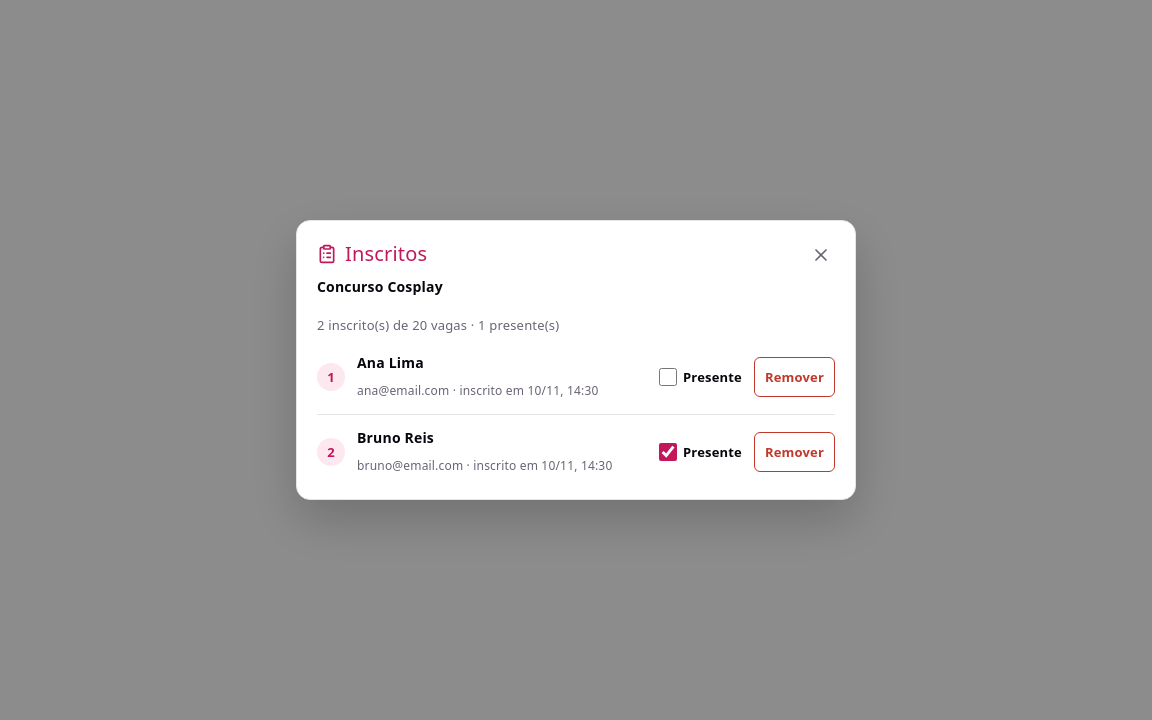
Test: RegistrationsModal › marca a presença de um inscrito
Click the checkbox labelled "Presente" in the row of "Ana Lima".
click(668, 377)  # box left=659, top=368, right=677, bottom=386
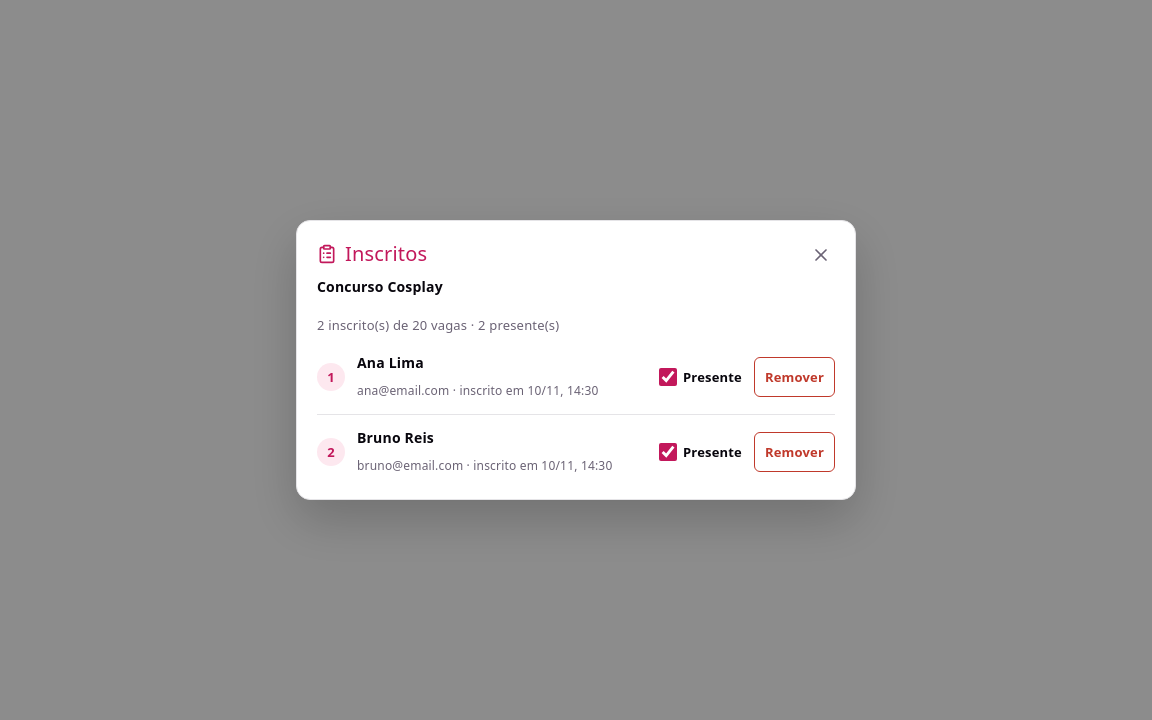
Expected: the checkbox labelled "Presente" in the row of "Ana Lima" is checked, left=659, top=368, right=677, bottom=386
Expected: the text "2 inscrito(s) de 20 vagas · 2 presente(s)" is shown, left=317, top=316, right=559, bottom=334
